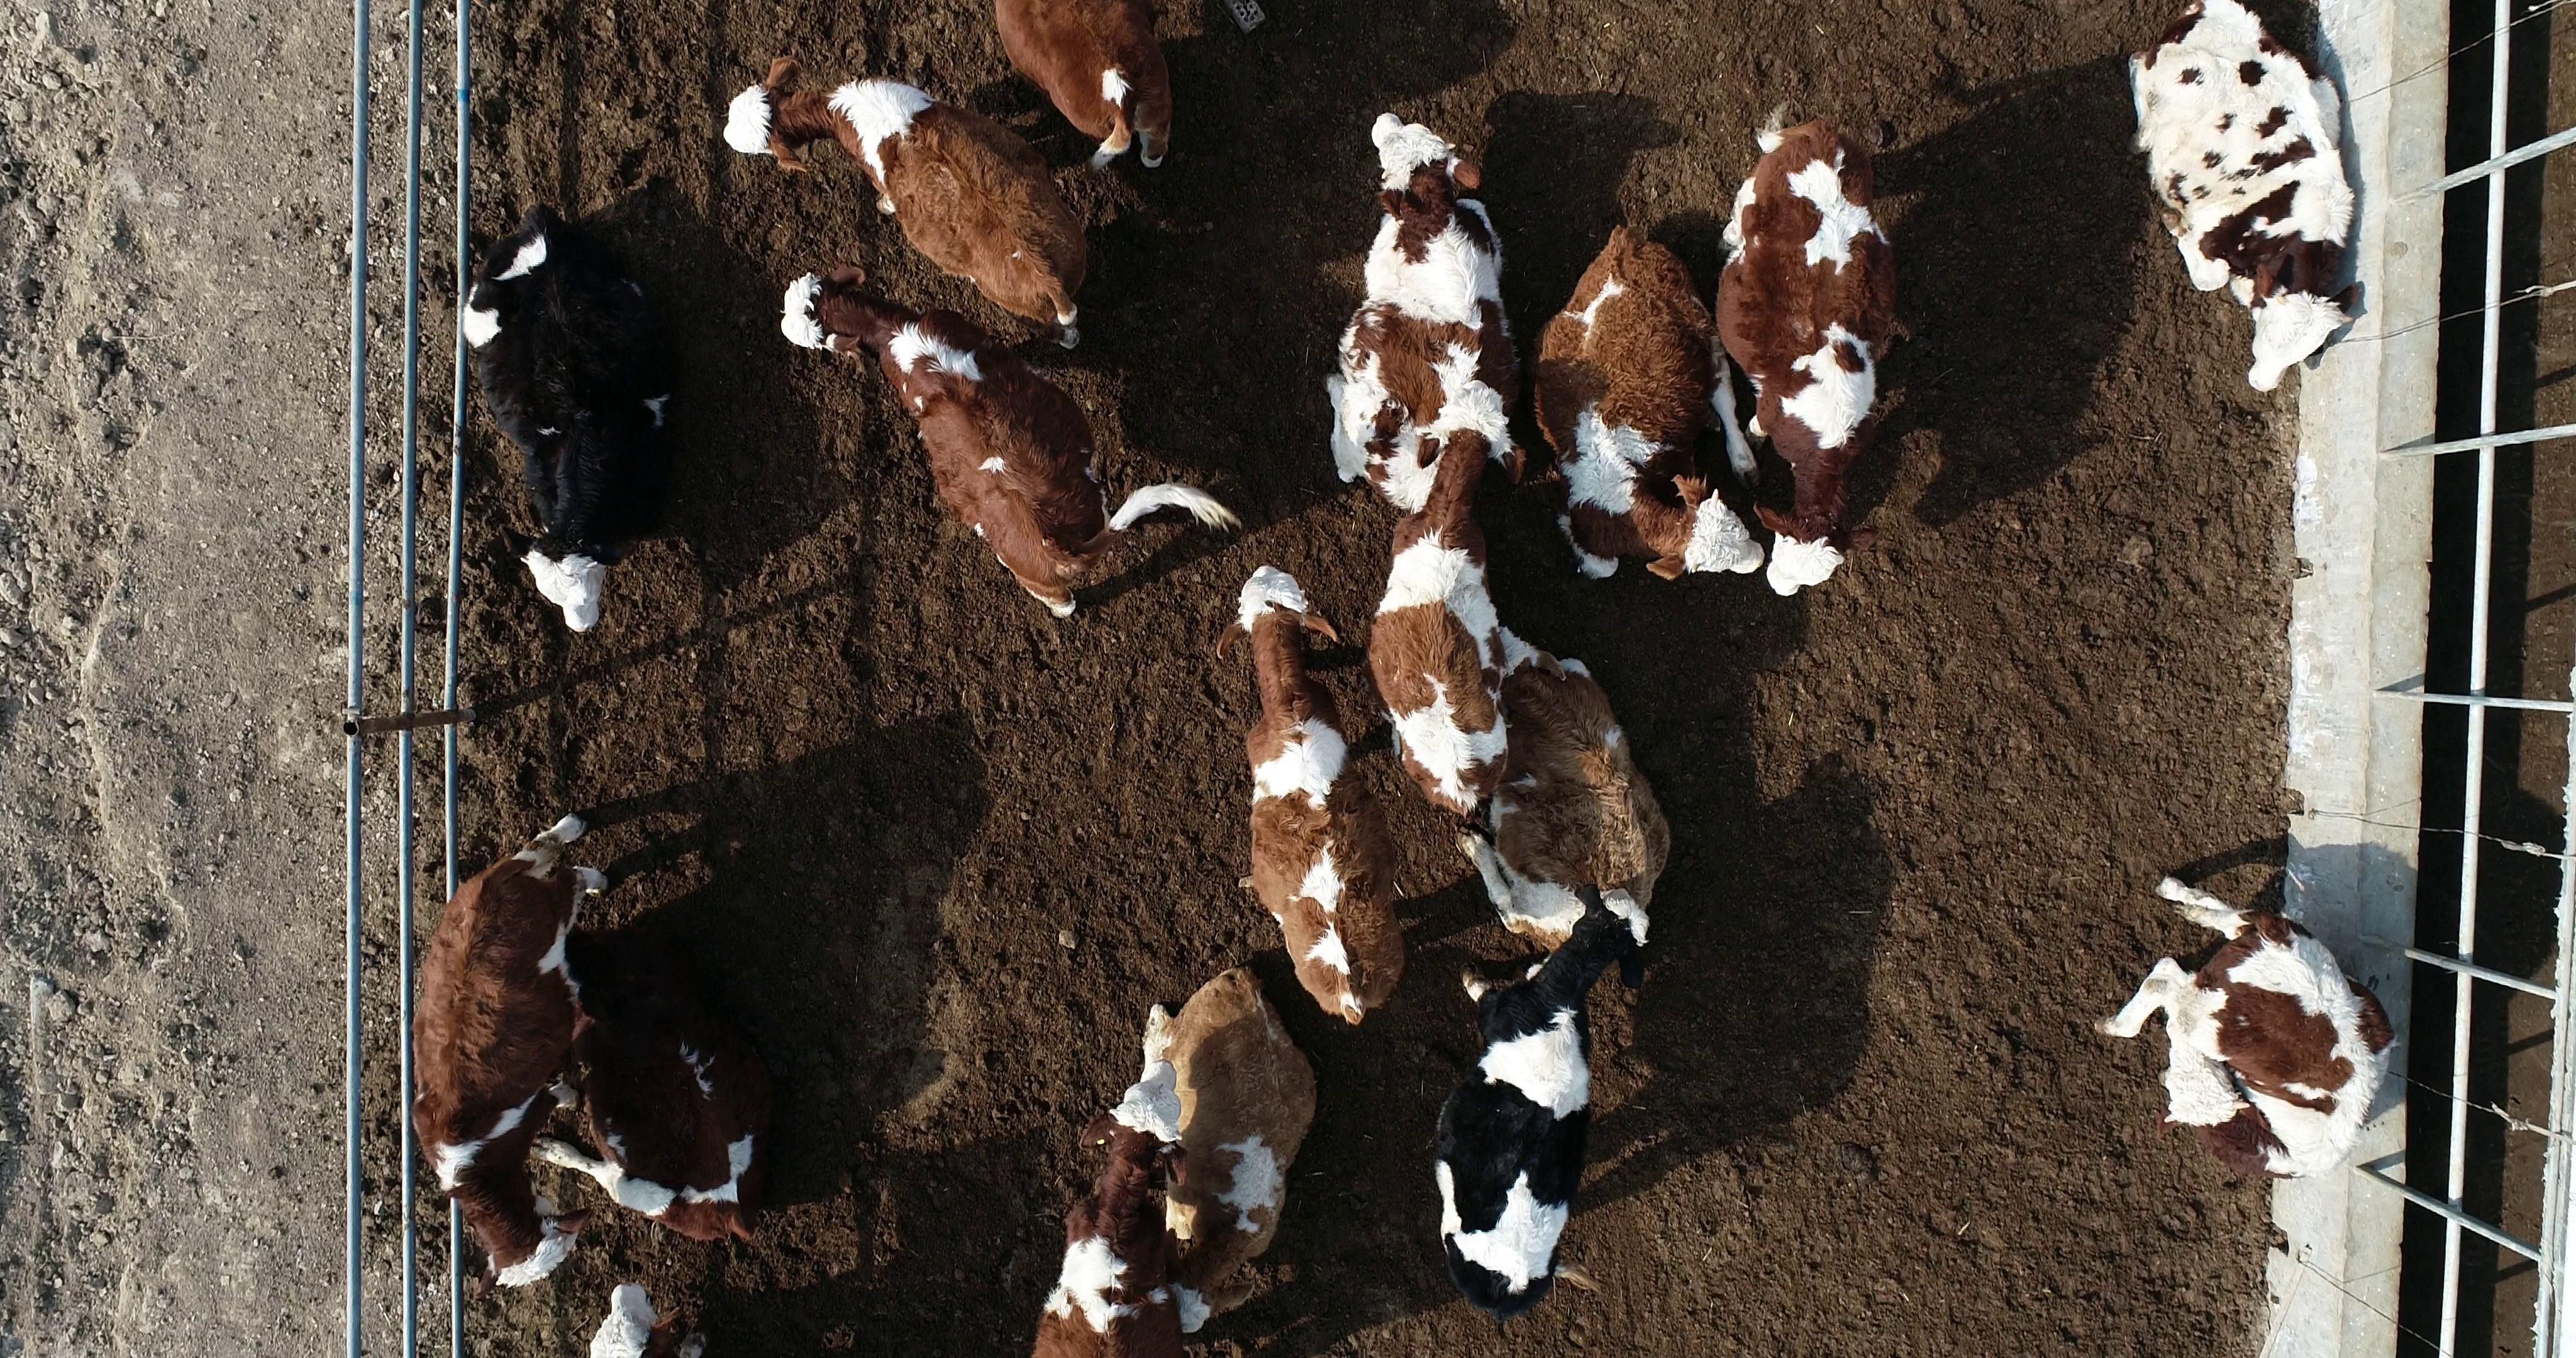cattle: (773, 259, 1245, 624), (716, 51, 1095, 353), (404, 809, 617, 1310), (1424, 879, 1659, 1322), (457, 199, 683, 639), (2121, 2, 2372, 399), (1709, 111, 1903, 601), (1210, 566, 1411, 1029), (1521, 216, 1767, 590), (1363, 378, 1515, 820)
